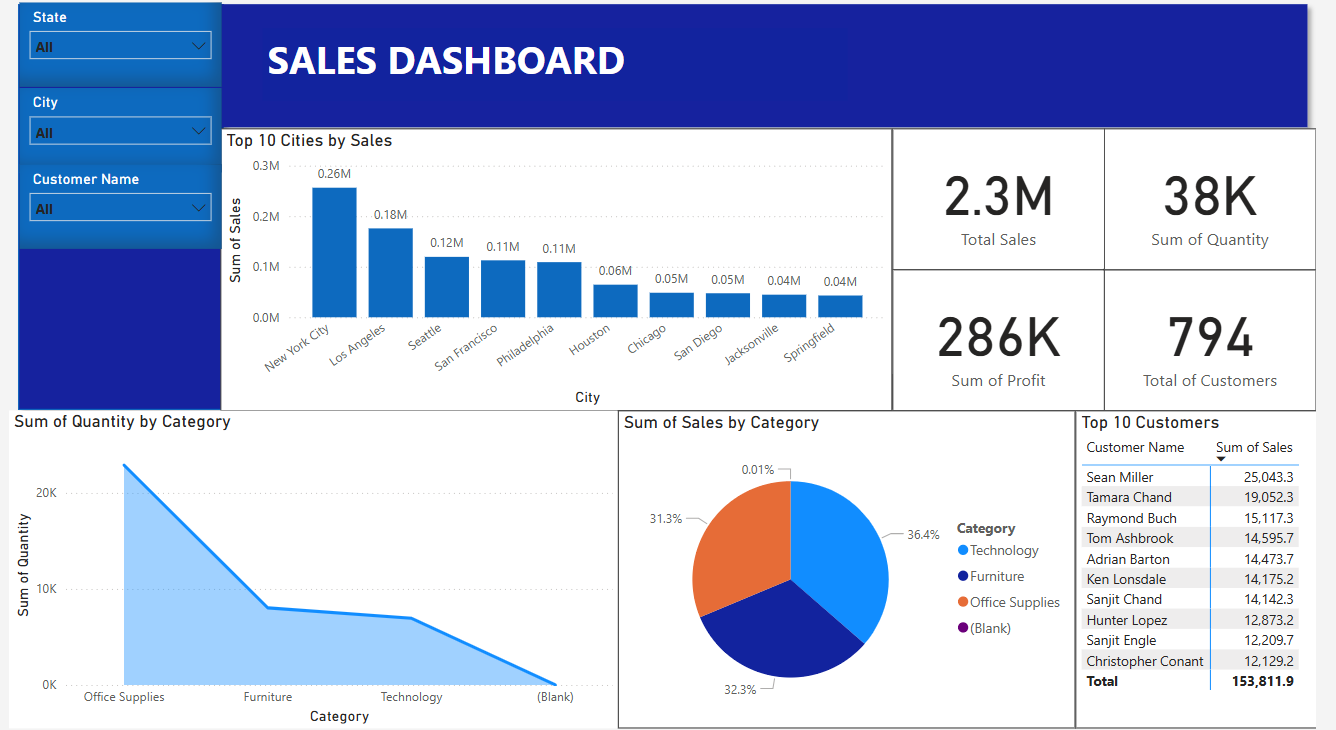

This screenshot's page, from the dashboard's own definition file:
{"tool":"powerbi","page":{"name":"Page 1","canvas":[1280,720],"ordinal":0},"visuals":[{"type":"shape","box":[0,0,219.2,415.4],"z":0},{"type":"shape","box":[192.3,0,1088.5,138.5],"z":1000},{"type":"textbox","box":[248.1,32.7,573.1,71.2],"z":2000},{"type":"card","fields":{"Values":["Sum(Sheet1.Sales)"]},"box":[865.4,130.8,207.7,138.5],"z":3000},{"type":"card","fields":{"Values":["Sum(Sheet1.Profit)"]},"box":[865.4,269.2,207.7,138.5],"z":4000},{"type":"card","fields":{"Values":["Count(Sheet1.Customer ID)"]},"box":[1073.1,269.2,207.7,138.5],"z":5000},{"type":"card","fields":{"Values":["Sum(Sheet1.Quantity)"]},"box":[1073.1,130.8,207.7,138.5],"z":6000},{"type":"columnChart","title":"Top 10 Cities by Sales","fields":{"Category":["Sheet1.City"],"Y":["Sum(Sheet1.Sales)"]},"box":[207.7,130.8,657.7,276.9],"z":7000},{"type":"pivotTable","title":"Top 10 Customers","fields":{"Rows":["Sheet1.Customer Name"],"Values":["Sum(Sheet1.Sales)"]},"box":[1044.2,407.7,236.5,311.5],"z":8000},{"type":"pieChart","fields":{"Category":["Sheet1.Category"],"Y":["Sum(Sheet1.Sales)"]},"box":[596.2,407.7,448.1,311.5],"z":9000},{"type":"stackedAreaChart","fields":{"Category":["Sheet1.Category"],"Y":["Sum(Sheet1.Quantity)"]},"box":[0,407.7,596.2,311.5],"z":10000},{"type":"slicer","fields":{"Values":["Sheet1.City"]},"box":[9.6,90.4,198.1,82.7],"z":10001},{"type":"slicer","fields":{"Values":["Sheet1.Customer Name"]},"box":[9.6,165.4,198.1,82.7],"z":10002},{"type":"slicer","fields":{"Values":["Sheet1.State"]},"box":[9.6,7.7,198.1,82.7],"z":10003}]}

Visuals, with their boxes in screenshot pixels (x1, y1, x2, y2), scaled from the page's 1280x720 canvas onto the 1336x730 screenshot:
shape: 0/0/229/421
shape: 201/0/1335/140
textbox: 259/33/857/105
card - Sum(Sheet1.Sales): 903/133/1120/273
card - Sum(Sheet1.Profit): 903/273/1120/413
card - Count(Sheet1.Customer ID): 1120/273/1335/413
card - Sum(Sheet1.Quantity): 1120/133/1335/273
"Top 10 Cities by Sales" columnChart: 217/133/903/413
"Top 10 Customers" pivotTable: 1090/413/1335/729
pieChart - Sheet1.Category x Sum(Sheet1.Sales): 622/413/1090/729
stackedAreaChart - Sheet1.Category x Sum(Sheet1.Quantity): 0/413/622/729
slicer - Sheet1.City: 10/92/217/176
slicer - Sheet1.Customer Name: 10/168/217/252
slicer - Sheet1.State: 10/8/217/92
